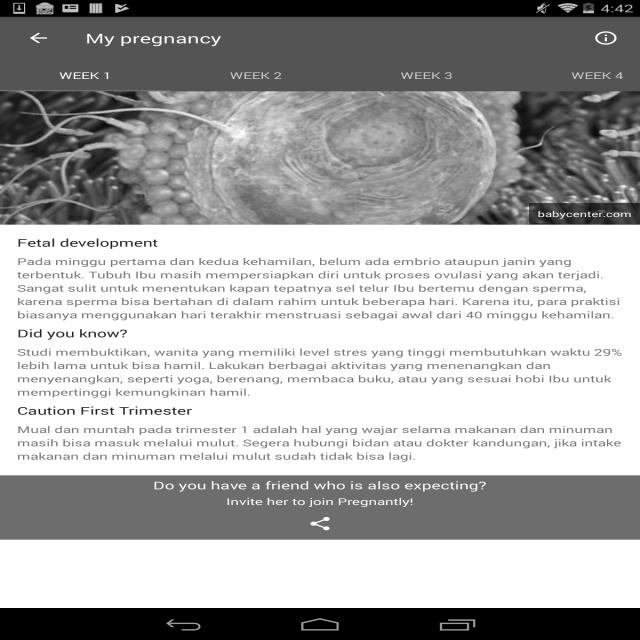ImageButton: (273, 508, 367, 540), (9, 17, 68, 59)
ImageView: (0, 91, 640, 225)
TextView: (0, 255, 640, 323), (0, 346, 640, 400), (0, 423, 640, 475), (0, 225, 640, 255), (0, 323, 640, 346), (0, 401, 640, 423), (149, 475, 491, 495), (86, 29, 222, 47), (226, 495, 414, 508), (529, 203, 640, 225), (580, 22, 632, 54), (59, 69, 112, 82), (400, 69, 453, 82), (571, 69, 624, 82), (230, 69, 282, 82)
